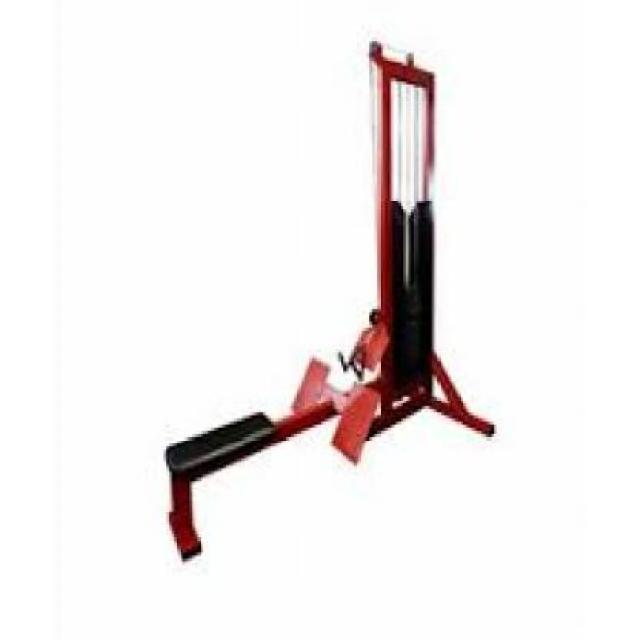Seated Cable Rows: (148, 28, 509, 563)
